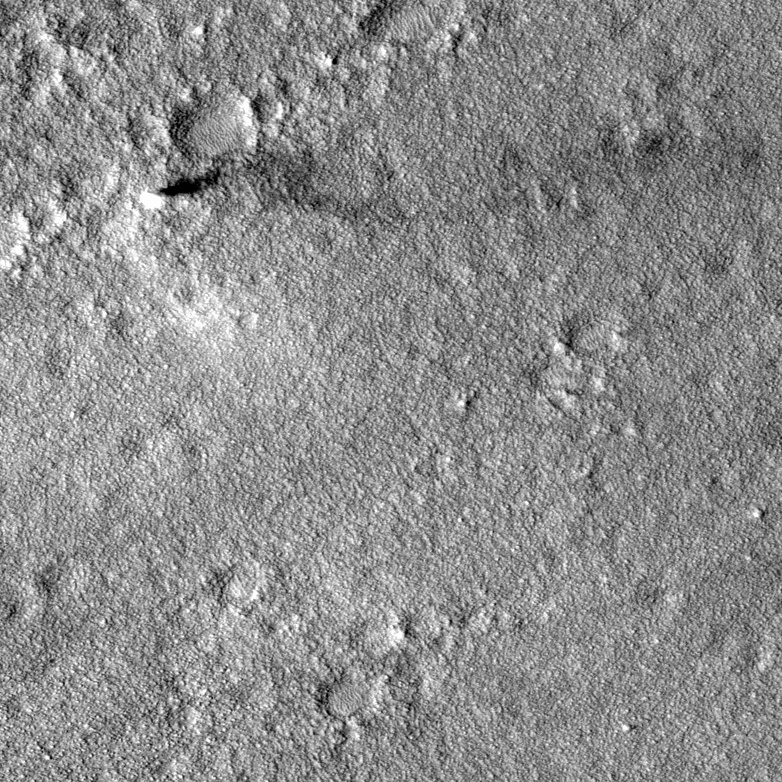dust_devil: (135, 164, 225, 214)
